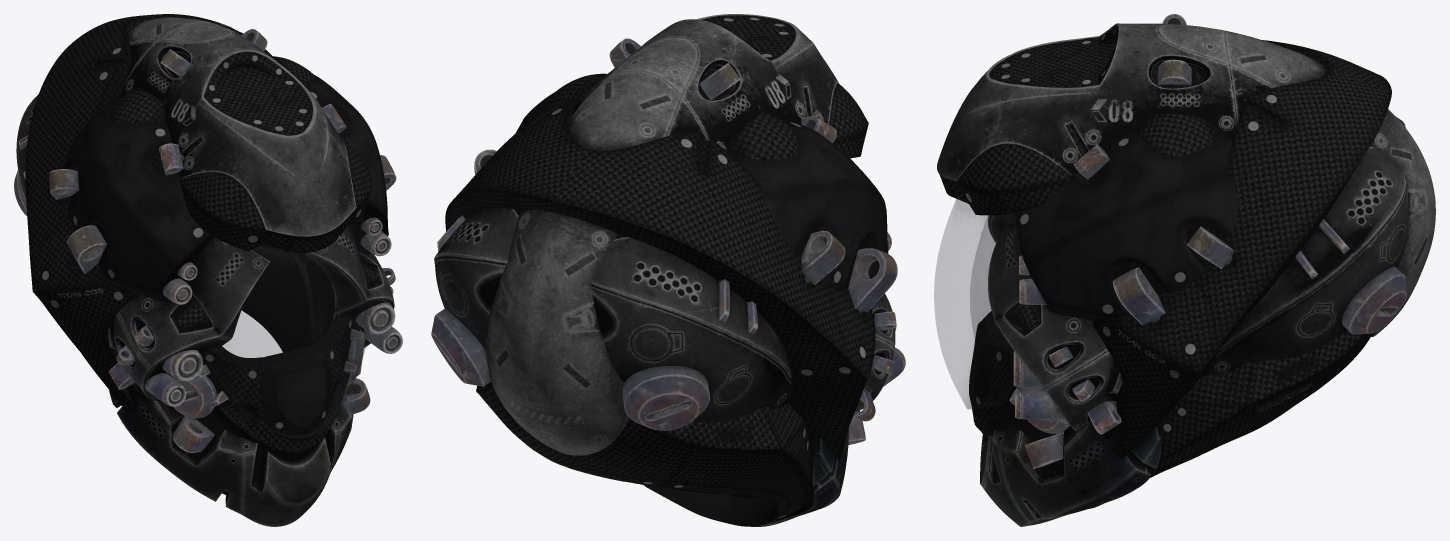
The model's file is fighter_helmet_01.opt.glb.
3 views of the same model, side by side, from view 1: azimuth 30°, elevation 25°; view 2: azimuth 150°, elevation 25°; view 3: azimuth 270°, elevation 25° (orthographic). The views are drawn at different scales.
Parts seen in each view (by area): view 1: Helmet1_Low_H1_0, Helmet2_Low_H2_0, Helmet3_Low_H3_0, Helmet6_Low_H6_0, Helmet5_Low_H5_0, Helmet4_Low_H4_0, Helmet7_Low_H7_0; view 2: Helmet1_Low_H1_0, Helmet3_Low_H3_0, Helmet4_Low_H4_0, Helmet5_Low_H5_0, Helmet7_Low_H7_0, Helmet2_Low_H2_0; view 3: Helmet1_Low_H1_0, Helmet3_Low_H3_0, Helmet2_Low_H2_0, Helmet4_Low_H4_0, Helmet5_Low_H5_0, Helmet7_Low_H7_0, Helmet6_Low_H6_0.
Part boxes in pixels (x1=…): Helmet1_Low_H1_0: x1=120, y1=17, x2=372, y2=256; Helmet2_Low_H2_0: x1=63, y1=56, x2=388, y2=460; Helmet3_Low_H3_0: x1=25, y1=14, x2=324, y2=408; Helmet6_Low_H6_0: x1=186, y1=216, x2=373, y2=438; Helmet5_Low_H5_0: x1=82, y1=248, x2=356, y2=526; Helmet4_Low_H4_0: x1=16, y1=94, x2=394, y2=400; Helmet7_Low_H7_0: x1=14, y1=29, x2=402, y2=452; Helmet1_Low_H1_0: x1=485, y1=14, x2=868, y2=455; Helmet3_Low_H3_0: x1=445, y1=100, x2=875, y2=459; Helmet4_Low_H4_0: x1=434, y1=208, x2=895, y2=422; Helmet5_Low_H5_0: x1=476, y1=381, x2=848, y2=526; Helmet7_Low_H7_0: x1=431, y1=38, x2=905, y2=445; Helmet2_Low_H2_0: x1=515, y1=73, x2=888, y2=291; Helmet1_Low_H1_0: x1=937, y1=23, x2=1435, y2=336; Helmet3_Low_H3_0: x1=1093, y1=40, x2=1391, y2=458; Helmet2_Low_H2_0: x1=969, y1=113, x2=1237, y2=440; Helmet4_Low_H4_0: x1=988, y1=117, x2=1409, y2=430; Helmet5_Low_H5_0: x1=980, y1=330, x2=1372, y2=526; Helmet7_Low_H7_0: x1=1009, y1=14, x2=1406, y2=468; Helmet6_Low_H6_0: x1=934, y1=199, x2=1030, y2=409.
Size of the model in its own units: 0.3269 by 0.4069 by 0.3758.
7 materials, 7 textured.
